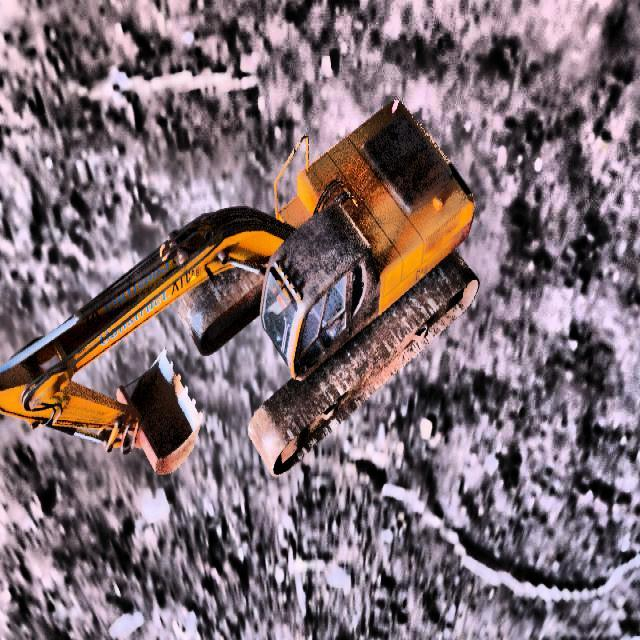excavator: (0, 99, 480, 477)
